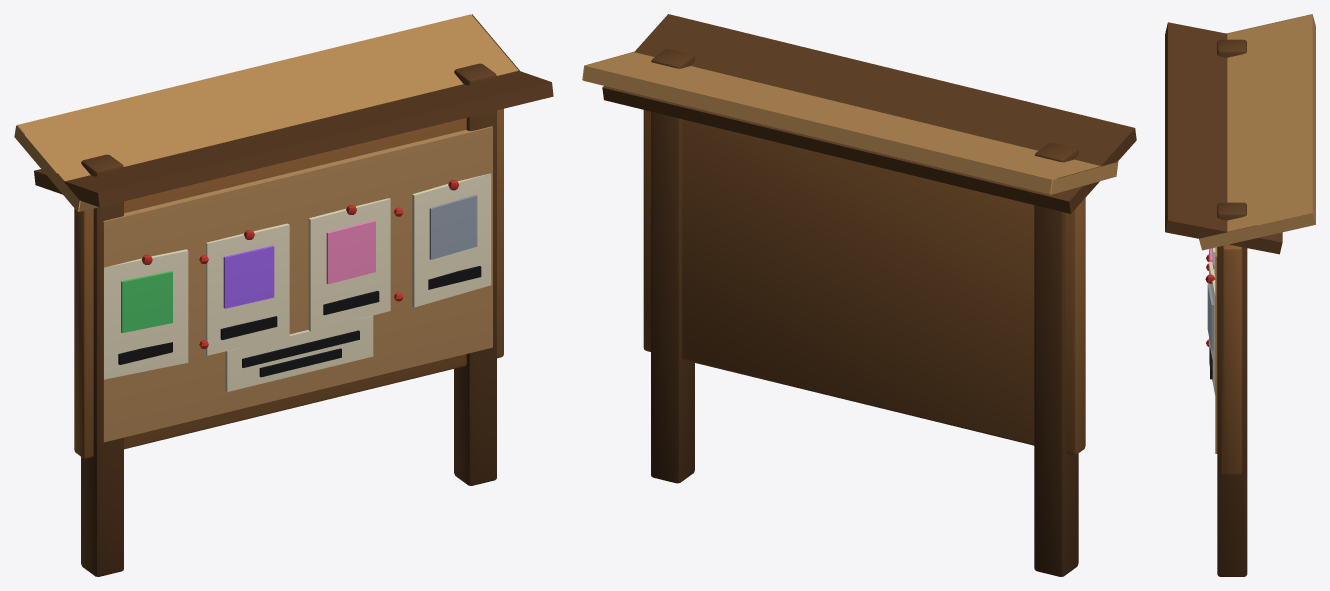
The model's file is board.glb.
3 views of the same model, side by side, from view 1: azimuth 30°, elevation 25°; view 2: azimuth 150°, elevation 25°; view 3: azimuth 270°, elevation 25° (orthographic). The views are drawn at different scales.
Parts seen in each view (by area): view 1: board; view 2: board; view 3: board.
Boxes of the visible parts, <box> form: board: <box>14,14,553,576</box>; board: <box>582,14,1136,576</box>; board: <box>1165,14,1315,576</box>.
Bounding box in the file's own units: 2.81 × 2.48 × 0.8999.
